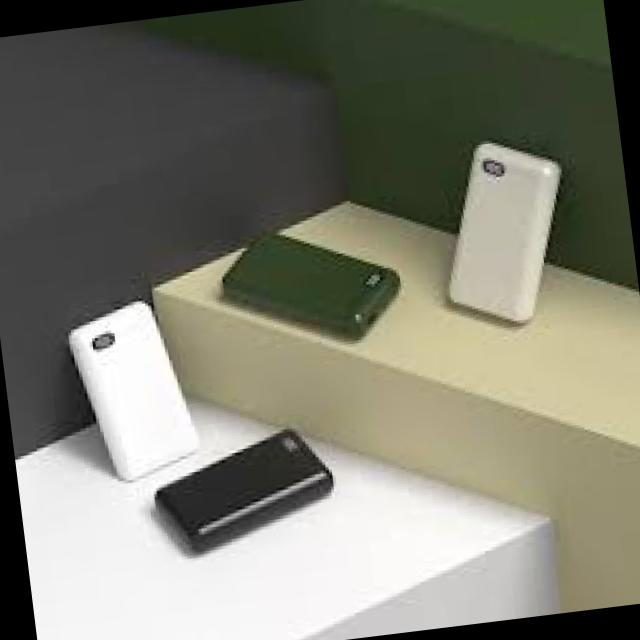power_bank: (429, 130, 580, 338), (208, 212, 410, 358), (61, 295, 204, 489), (152, 416, 345, 554)
